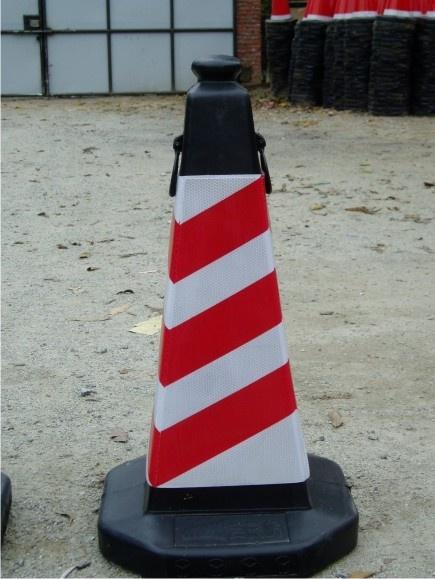cone_barrel: (109, 75, 341, 551)
